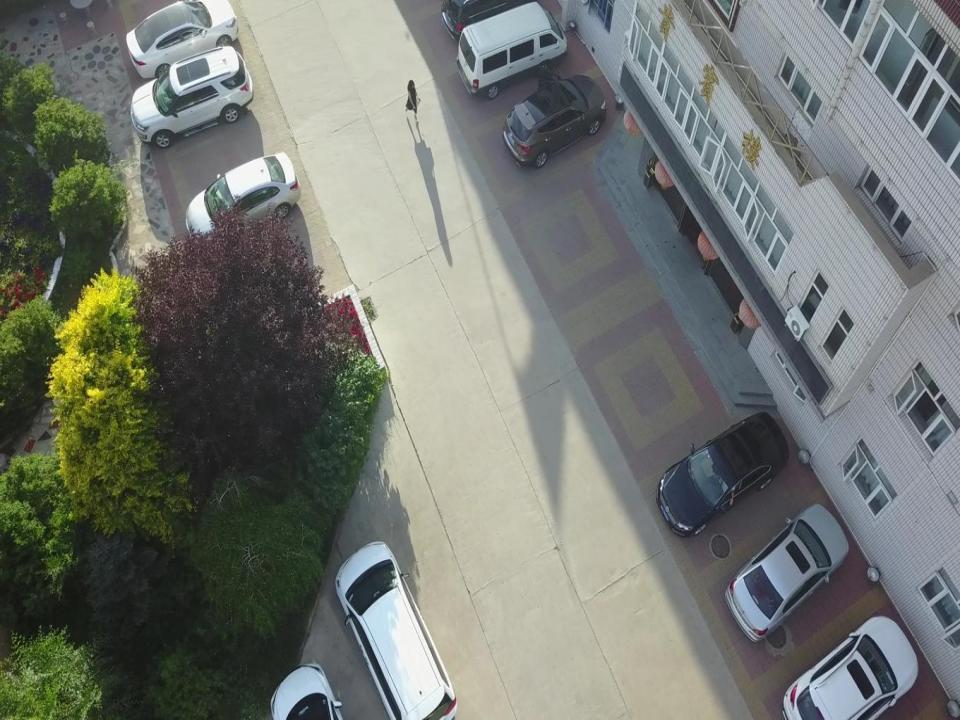car: (335, 540, 458, 720), (725, 502, 850, 644), (656, 412, 789, 538), (780, 613, 920, 720), (130, 45, 253, 150), (456, 2, 568, 101), (502, 63, 605, 169), (185, 151, 301, 244), (126, 0, 238, 79)
